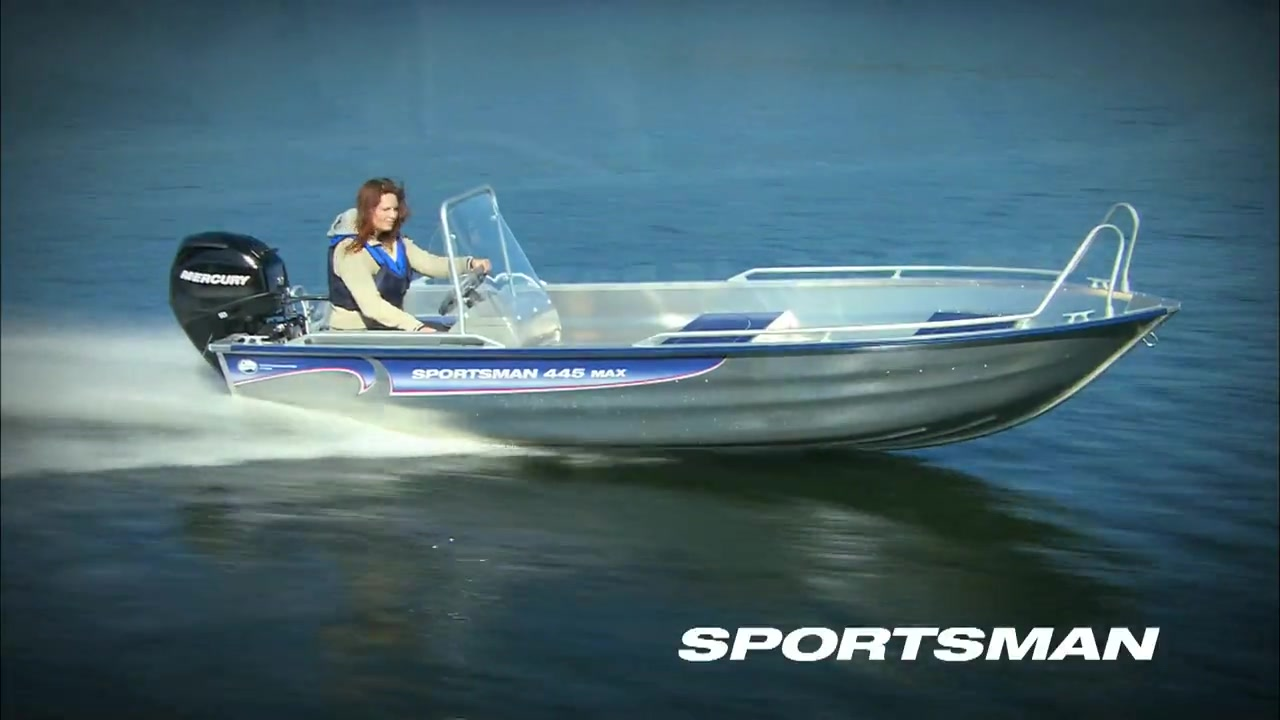boat: (163, 178, 1185, 460)
